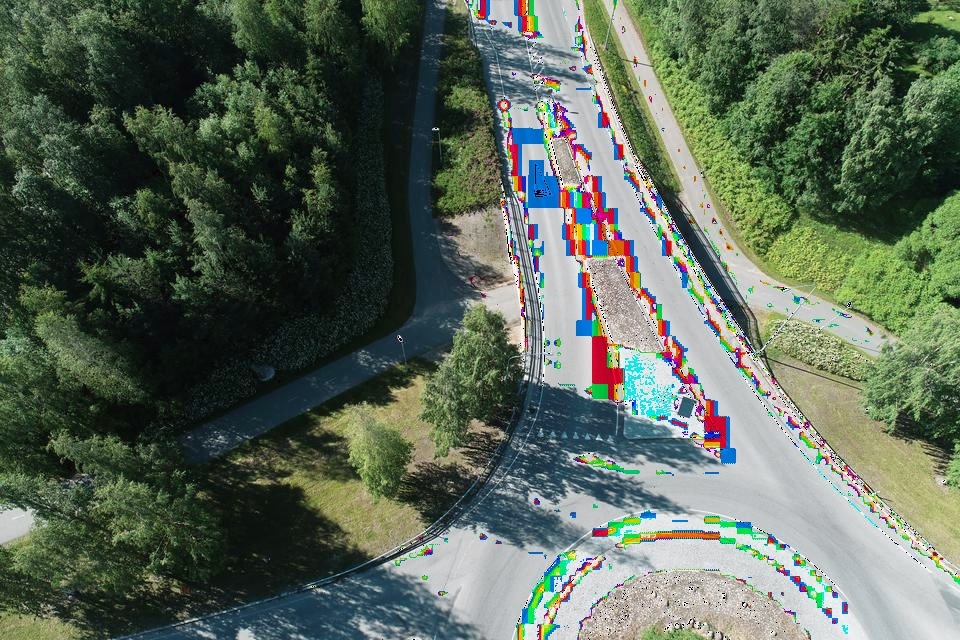roundabout: (372, 411, 960, 640)
